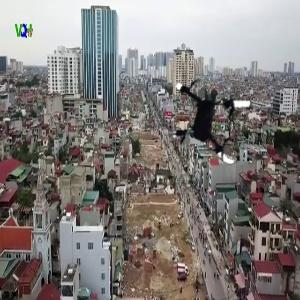drone: (164, 70, 266, 172)
